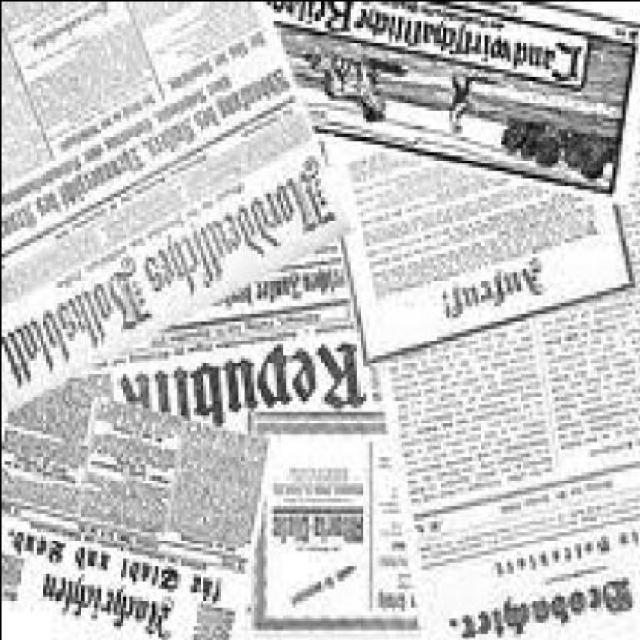paper: (3, 5, 352, 423), (43, 132, 385, 426), (377, 290, 638, 638), (272, 3, 638, 208), (342, 123, 638, 371), (3, 380, 283, 638), (240, 437, 429, 638)
